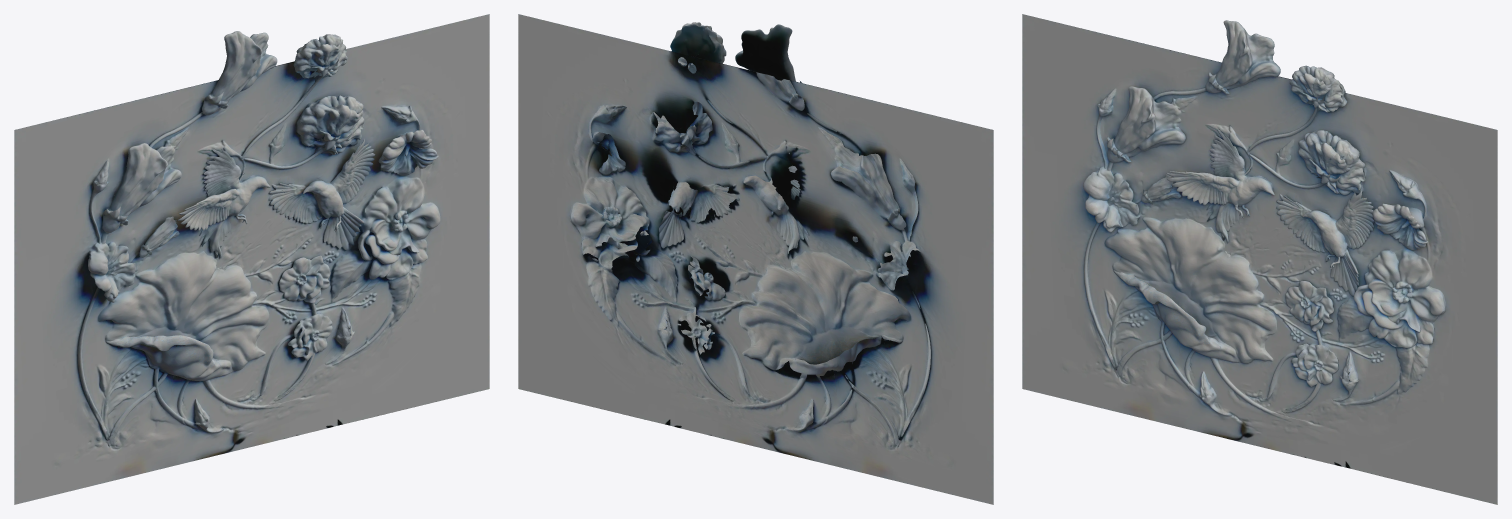
The picture shows the model from 3 angles, left to right: view 1: azimuth 30°, elevation 25°; view 2: azimuth 150°, elevation 25°; view 3: azimuth 330°, elevation 25°; orthographic projection.
Visible parts, largest first — view 1: bird_01; view 2: bird_01; view 3: bird_01.
Part boxes in pixels (x1,y1,x2,y2): bird_01: (14, 14, 489, 504); bird_01: (518, 14, 993, 504); bird_01: (1022, 14, 1497, 504).
Size of the model in its own units: 13.25 by 11.29 by 0.782.
Materials: 1 (1 with a texture image).
